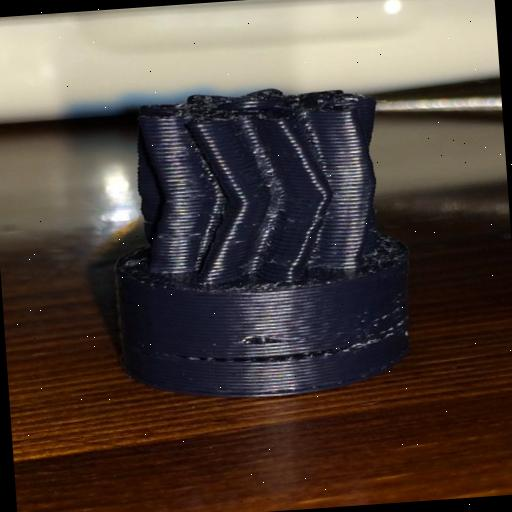cracks: (178, 333, 348, 379)
